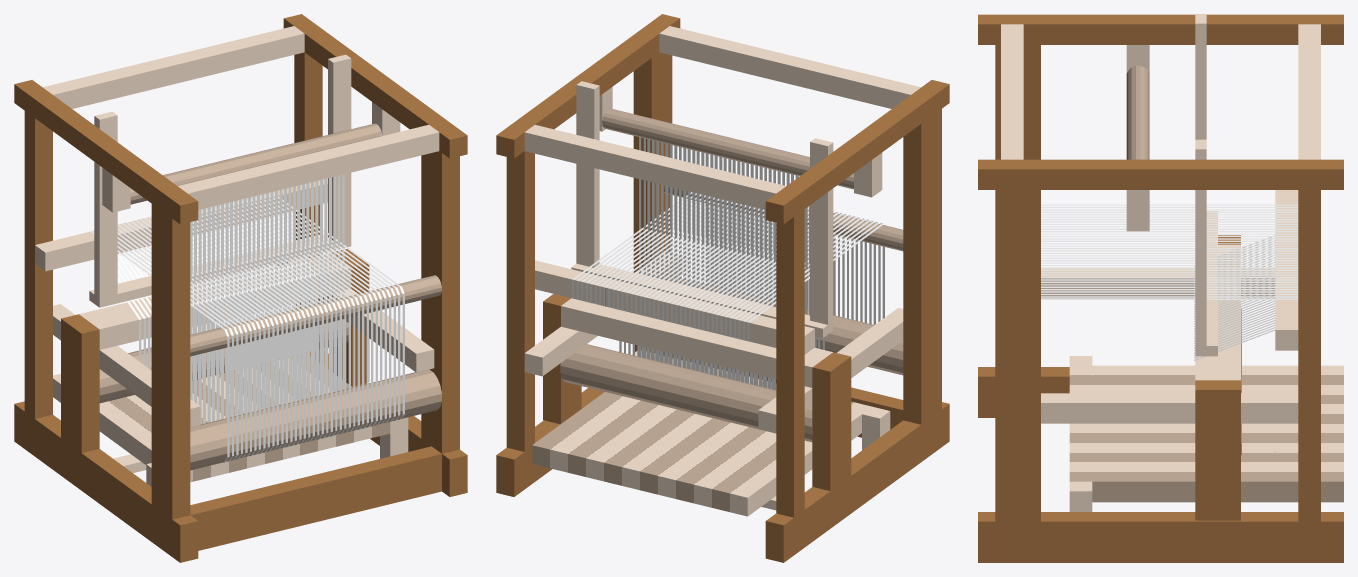
Rendered from loom.glb.
The picture shows the model from 3 angles, left to right: view 1: azimuth 30°, elevation 25°; view 2: azimuth 150°, elevation 25°; view 3: azimuth 270°, elevation 25°; orthographic projection. The views are drawn at different scales.
Visible parts, largest first — view 1: 7ca5a9b2-afd0-5b9c-33af-fd3bd3ab3a1a_62, b4755abf-4503-b9e9-5534-3f6e73cb71ab_58, 79cac52d-063a-cf6a-1141-66af63456bc3_64, 2c8f0a25-9ee7-71d3-54e8-8f282a13a0b7_76, 4c24d0ef-7916-4a47-3420-a678a58d071d_63, 99b018a4-dc97-ca36-9388-2d971b706d81_55, f4b15fb1-5184-5c8a-ea71-aeaa318781be_56, b15e15cf-5ed9-3a73-9cec-d40e0c816b4a_68, 4707ade0-1bc0-ced2-99bc-4f9d8ac24bb3_75, 322d9986-5d57-9b34-e1e2-928e36c95ed0_79, db41c0bf-464c-fde4-6045-f971db68d86f_71, b80e041f-3d67-bd76-cf36-e1b7b3604e11_50 (+48 smaller); view 2: b15e15cf-5ed9-3a73-9cec-d40e0c816b4a_68, 7ca5a9b2-afd0-5b9c-33af-fd3bd3ab3a1a_62, 2c8f0a25-9ee7-71d3-54e8-8f282a13a0b7_76, 4c24d0ef-7916-4a47-3420-a678a58d071d_63, f8ababe4-c6e1-902c-f4da-64c9bcc47c82_67, 5633ec62-8f60-f5d2-8b5e-aa78fb3481ea_61, f4b15fb1-5184-5c8a-ea71-aeaa318781be_56, 99b018a4-dc97-ca36-9388-2d971b706d81_55, 4707ade0-1bc0-ced2-99bc-4f9d8ac24bb3_75, b0b49880-fb70-8f30-1d6b-256b21a8ce65_60, 322d9986-5d57-9b34-e1e2-928e36c95ed0_79, db41c0bf-464c-fde4-6045-f971db68d86f_71 (+40 smaller); view 3: b15e15cf-5ed9-3a73-9cec-d40e0c816b4a_68, 05b074af-4c66-cb41-bc23-559ca9e46031_80, 79cac52d-063a-cf6a-1141-66af63456bc3_64, 322d9986-5d57-9b34-e1e2-928e36c95ed0_79, 4707ade0-1bc0-ced2-99bc-4f9d8ac24bb3_75, f8ababe4-c6e1-902c-f4da-64c9bcc47c82_67, 88e64438-cc84-7412-b6fa-8ba161a8a89b_78, 0be8b288-3029-c72a-b111-f3f570b4d89b_73, 3225353f-afee-debb-fd15-214045e9b49b_77, a4e58322-f1a5-29e5-a93e-33a9f45d0cd1_15, 0941c4cb-f3f1-5f1c-3a64-a2d9fe7e530e_42, 07af3692-f319-ee00-1ca8-6da3ac31fd80_24 (+22 smaller).
Part boxes in pixels (x1,y1,x2,y2): 7ca5a9b2-afd0-5b9c-33af-fd3bd3ab3a1a_62: [151, 204, 190, 519]; b4755abf-4503-b9e9-5534-3f6e73cb71ab_58: [190, 446, 441, 550]; 79cac52d-063a-cf6a-1141-66af63456bc3_64: [421, 151, 459, 453]; 2c8f0a25-9ee7-71d3-54e8-8f282a13a0b7_76: [14, 401, 198, 562]; 4c24d0ef-7916-4a47-3420-a678a58d071d_63: [24, 111, 52, 418]; 99b018a4-dc97-ca36-9388-2d971b706d81_55: [178, 125, 439, 209]; f4b15fb1-5184-5c8a-ea71-aeaa318781be_56: [43, 26, 304, 108]; b15e15cf-5ed9-3a73-9cec-d40e0c816b4a_68: [53, 353, 390, 482]; 4707ade0-1bc0-ced2-99bc-4f9d8ac24bb3_75: [14, 80, 198, 224]; 322d9986-5d57-9b34-e1e2-928e36c95ed0_79: [283, 14, 467, 158]; db41c0bf-464c-fde4-6045-f971db68d86f_71: [61, 314, 99, 452]; b80e041f-3d67-bd76-cf36-e1b7b3604e11_50: [203, 200, 236, 423]; b15e15cf-5ed9-3a73-9cec-d40e0c816b4a_68: [532, 355, 871, 516]; 7ca5a9b2-afd0-5b9c-33af-fd3bd3ab3a1a_62: [903, 109, 941, 424]; 2c8f0a25-9ee7-71d3-54e8-8f282a13a0b7_76: [765, 402, 949, 562]; 4c24d0ef-7916-4a47-3420-a678a58d071d_63: [776, 209, 804, 517]; f8ababe4-c6e1-902c-f4da-64c9bcc47c82_67: [506, 151, 534, 451]; 5633ec62-8f60-f5d2-8b5e-aa78fb3481ea_61: [561, 298, 832, 387]; f4b15fb1-5184-5c8a-ea71-aeaa318781be_56: [524, 125, 785, 209]; 99b018a4-dc97-ca36-9388-2d971b706d81_55: [659, 26, 920, 108]; 4707ade0-1bc0-ced2-99bc-4f9d8ac24bb3_75: [765, 80, 949, 224]; b0b49880-fb70-8f30-1d6b-256b21a8ce65_60: [535, 260, 814, 354]; 322d9986-5d57-9b34-e1e2-928e36c95ed0_79: [496, 14, 680, 158]; db41c0bf-464c-fde4-6045-f971db68d86f_71: [812, 352, 851, 490]; b15e15cf-5ed9-3a73-9cec-d40e0c816b4a_68: [1069, 365, 1343, 502]; 05b074af-4c66-cb41-bc23-559ca9e46031_80: [978, 512, 1343, 562]; 79cac52d-063a-cf6a-1141-66af63456bc3_64: [995, 190, 1040, 521]; 322d9986-5d57-9b34-e1e2-928e36c95ed0_79: [978, 159, 1343, 189]; 4707ade0-1bc0-ced2-99bc-4f9d8ac24bb3_75: [978, 14, 1343, 44]; f8ababe4-c6e1-902c-f4da-64c9bcc47c82_67: [1298, 190, 1320, 521]; 88e64438-cc84-7412-b6fa-8ba161a8a89b_78: [1041, 393, 1298, 423]; 0be8b288-3029-c72a-b111-f3f570b4d89b_73: [1195, 380, 1240, 520]; 3225353f-afee-debb-fd15-214045e9b49b_77: [1041, 268, 1275, 298]; a4e58322-f1a5-29e5-a93e-33a9f45d0cd1_15: [1041, 281, 1298, 299]; 0941c4cb-f3f1-5f1c-3a64-a2d9fe7e530e_42: [1041, 262, 1298, 280]; 07af3692-f319-ee00-1ca8-6da3ac31fd80_24: [1041, 243, 1298, 261].
Bounding box in the file's own units: 1 × 1.22 × 1.
1 material, 1 textured.
